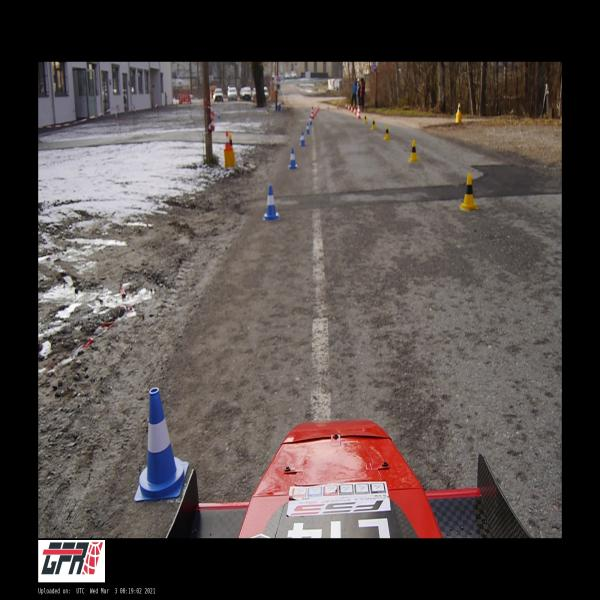blue_cone: (134, 388, 189, 501), (264, 185, 280, 220), (288, 148, 298, 169), (299, 132, 306, 146), (305, 123, 310, 134), (309, 115, 313, 125)
large_orange_cone: (357, 106, 361, 119), (311, 107, 314, 120)
orange_cone: (224, 131, 232, 150), (353, 108, 357, 115), (327, 104, 329, 110), (337, 105, 339, 109)
yellow_cone: (459, 174, 478, 209), (408, 140, 419, 162), (384, 124, 391, 140), (456, 102, 462, 113), (372, 118, 376, 130), (364, 113, 367, 122)
